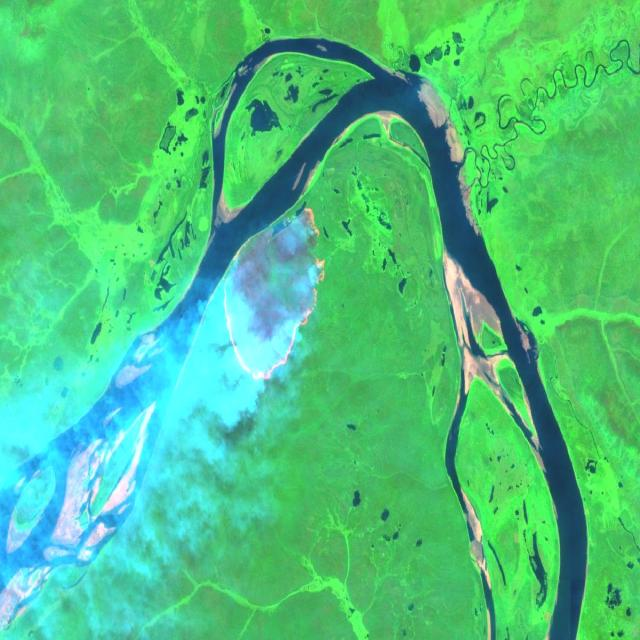fire: (214, 201, 330, 392)
